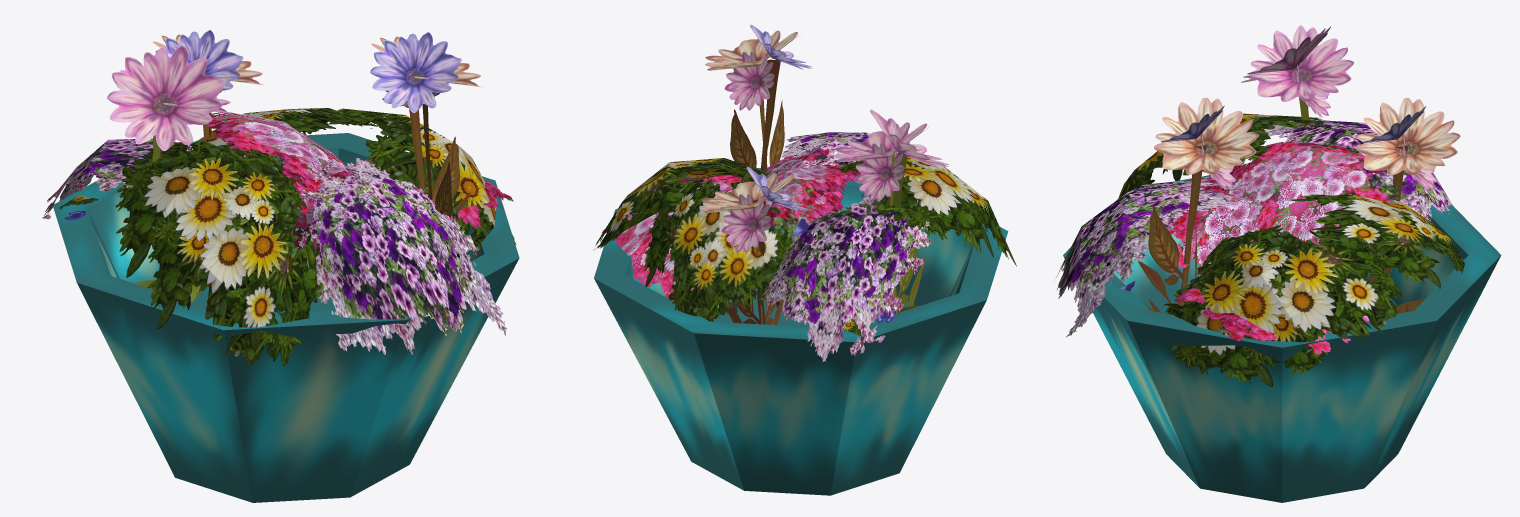
File: g_flwrpot.fbx
The picture shows the model from 3 angles, left to right: view 1: azimuth 30°, elevation 25°; view 2: azimuth 150°, elevation 25°; view 3: azimuth 270°, elevation 25°; orthographic projection. The views are drawn at different scales.
Parts seen in each view (by area): view 1: g_flowerpot01; view 2: g_flowerpot01; view 3: g_flowerpot01.
Boxes of the visible parts, box(x1,y1,x2,y2) form: g_flowerpot01: box(42, 30, 519, 502); g_flowerpot01: box(593, 24, 1016, 495); g_flowerpot01: box(1054, 25, 1501, 502).
Bounding box in the file's own units: 43.99 × 39.57 × 41.7.
